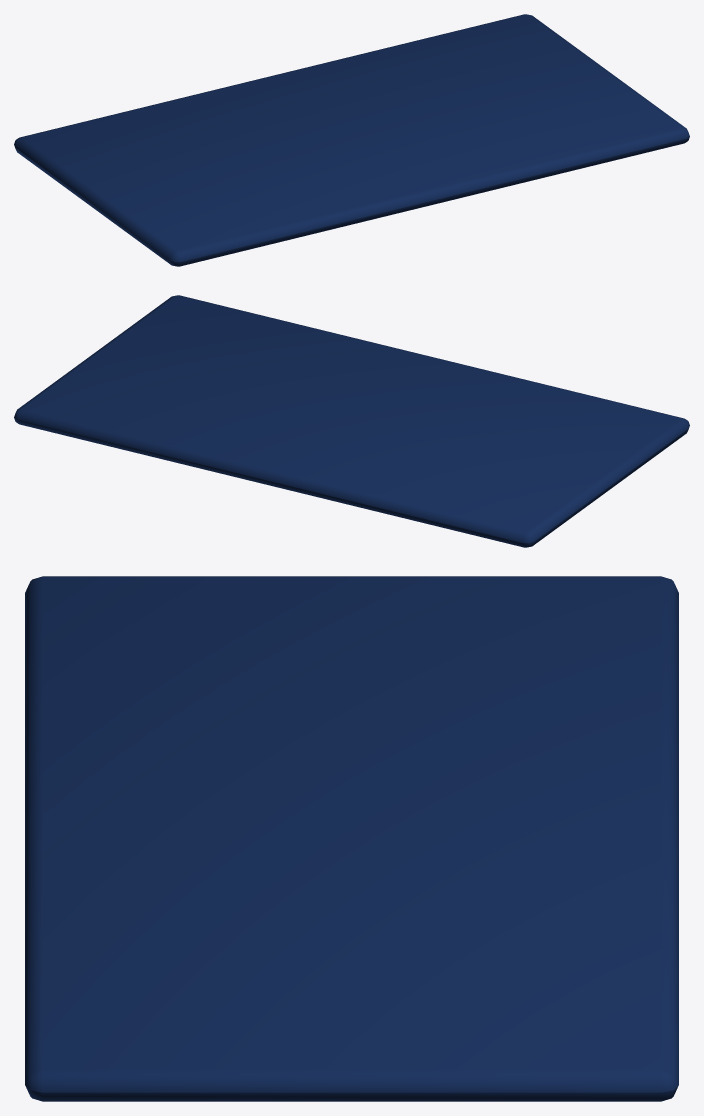
The model's file is GEO_SEDAN_Trunk_Lid.glb.
3 views of the same model, one above another, from view 1: azimuth 30°, elevation 25°; view 2: azimuth 150°, elevation 25°; view 3: azimuth 270°, elevation 25° (orthographic). The views are drawn at different scales.
Visible parts, largest first — view 1: GEO_SEDAN_Trunk_Lid; view 2: GEO_SEDAN_Trunk_Lid; view 3: GEO_SEDAN_Trunk_Lid.
Part boxes in pixels (<box>): GEO_SEDAN_Trunk_Lid: <box>14,14,689,266</box>; GEO_SEDAN_Trunk_Lid: <box>14,295,689,547</box>; GEO_SEDAN_Trunk_Lid: <box>25,576,678,1101</box>.
Size of the model in its own units: 1.38 by 0.04 by 0.75.
